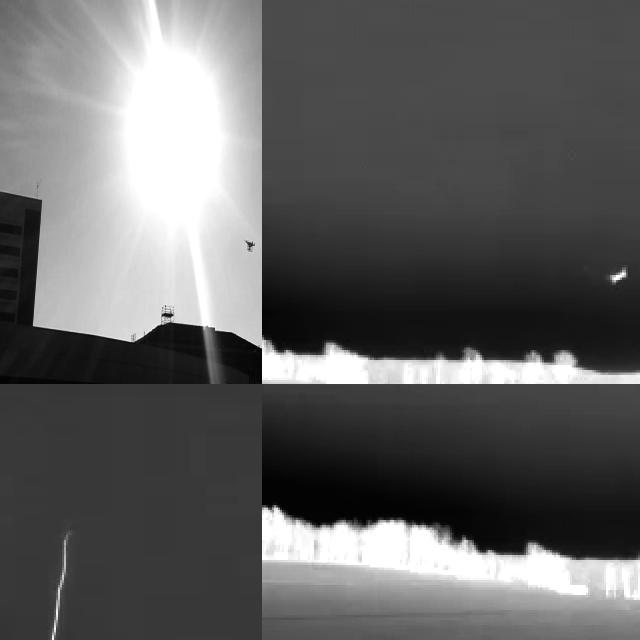1: (599, 265, 640, 295)
drone: (242, 238, 258, 255)
